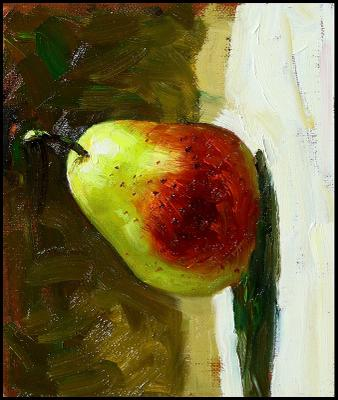pear: (0, 0, 338, 400)
